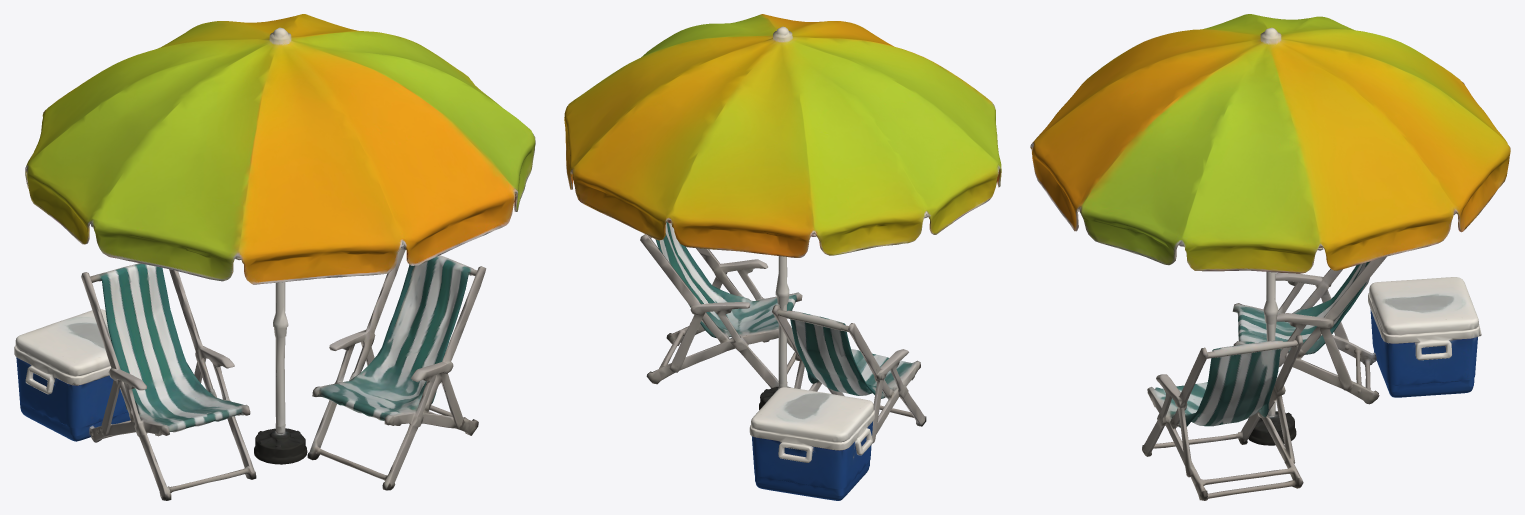
The model's file is praia_guardasol.glb.
3 renders of one model, left to right at view 1: azimuth 30°, elevation 25°; view 2: azimuth 150°, elevation 25°; view 3: azimuth 270°, elevation 25°, orthographic. The views are drawn at different scales.
Parts seen in each view (by area): view 1: tripo_node_3d780dc3-ece2-42ac-b31c-83f3bdc5c663; view 2: tripo_node_3d780dc3-ece2-42ac-b31c-83f3bdc5c663; view 3: tripo_node_3d780dc3-ece2-42ac-b31c-83f3bdc5c663.
Boxes of the visible parts, x1,y1,x2,y2 form: tripo_node_3d780dc3-ece2-42ac-b31c-83f3bdc5c663: [14, 14, 535, 500]; tripo_node_3d780dc3-ece2-42ac-b31c-83f3bdc5c663: [564, 14, 1001, 500]; tripo_node_3d780dc3-ece2-42ac-b31c-83f3bdc5c663: [1030, 14, 1510, 500].
Bounding box in the file's own units: 0.9799 × 0.9179 × 0.9833.
Materials: 1 (1 with a texture image).
